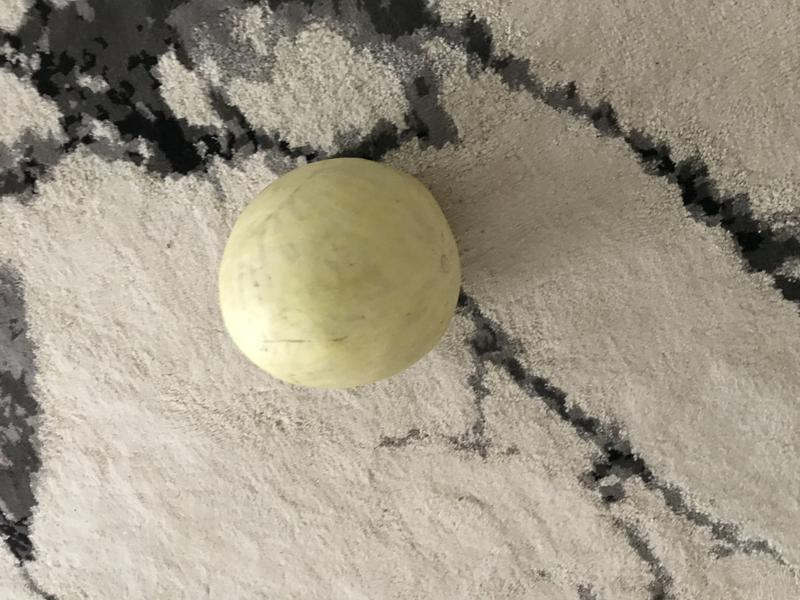honeydew: (209, 149, 471, 390)
